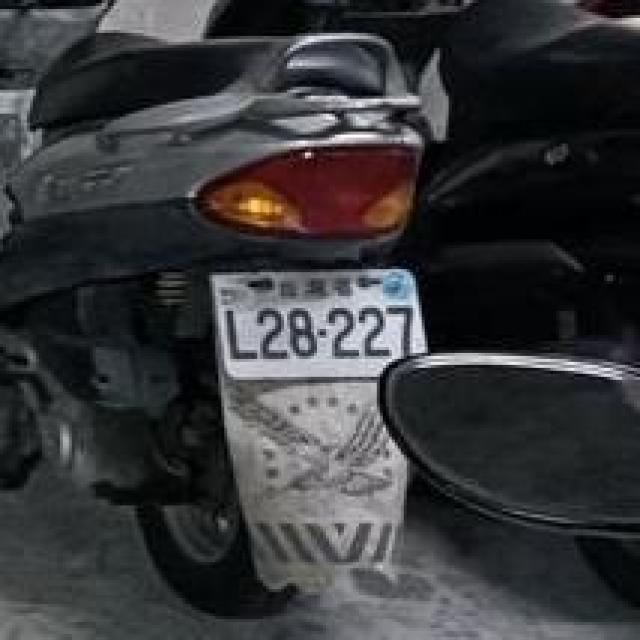W: (200, 242, 434, 392)
